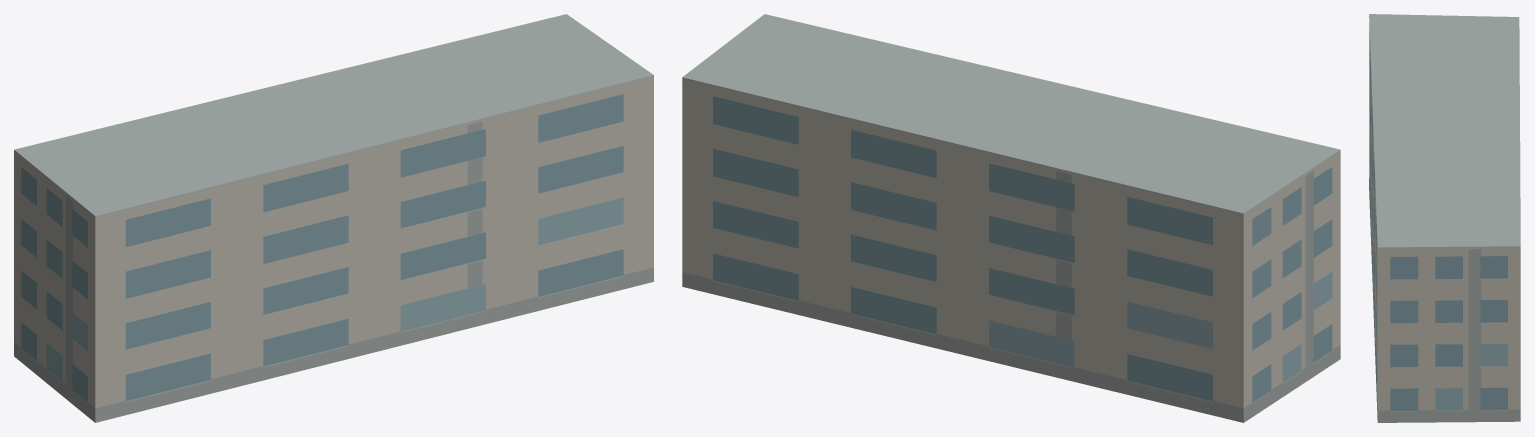
The model's file is residential-84fdd952-249c-424e-b914-c9dff0795d3f.glb.
The picture shows the model from 3 angles, left to right: view 1: azimuth 30°, elevation 25°; view 2: azimuth 150°, elevation 25°; view 3: azimuth 270°, elevation 25°; orthographic projection. The views are drawn at different scales.
Visible parts, largest first — view 1: residential-84fdd952-249c-424e-b914-c9dff0795d3f.tmp; view 2: residential-84fdd952-249c-424e-b914-c9dff0795d3f.tmp; view 3: residential-84fdd952-249c-424e-b914-c9dff0795d3f.tmp.
Boxes of the visible parts, x1,y1,x2,y2 form: residential-84fdd952-249c-424e-b914-c9dff0795d3f.tmp: [14, 14, 653, 422]; residential-84fdd952-249c-424e-b914-c9dff0795d3f.tmp: [682, 14, 1340, 422]; residential-84fdd952-249c-424e-b914-c9dff0795d3f.tmp: [1369, 14, 1520, 422].
Size of the model in its own units: 45.64 by 16 by 12.54.
